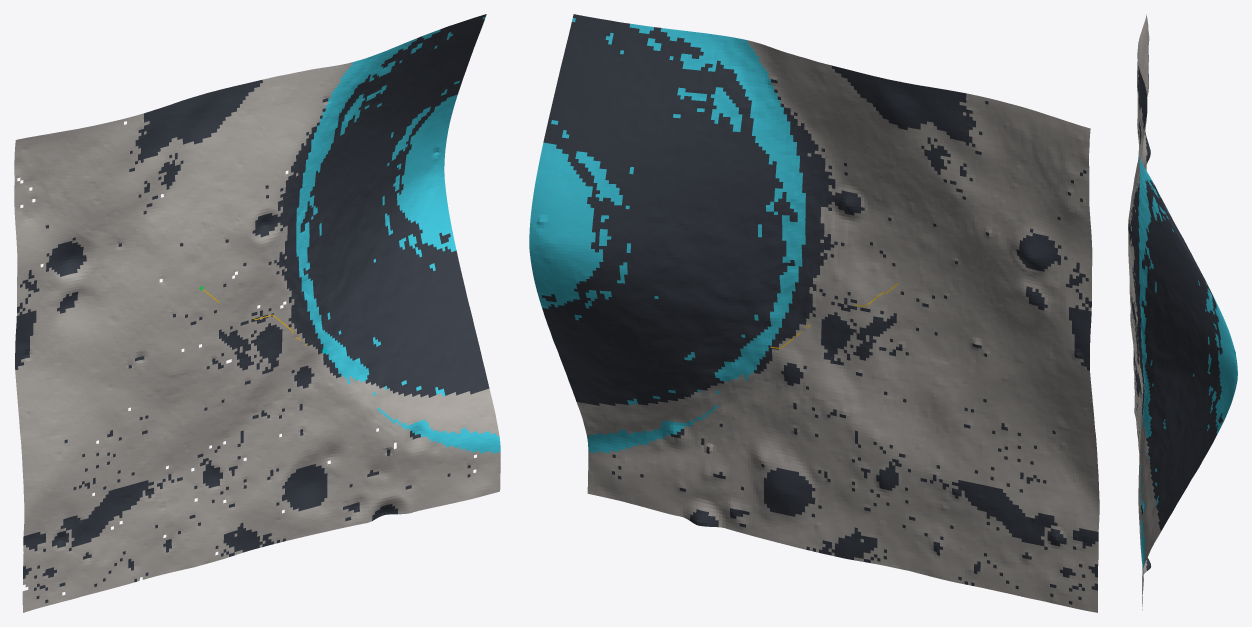
File: cabeus_b_terrain_and_traverse_3d_model.obj
3 views of the same model, side by side, from view 1: azimuth 30°, elevation 25°; view 2: azimuth 150°, elevation 25°; view 3: azimuth 270°, elevation 25° (orthographic). The views are drawn at different scales.
Visible parts, largest first — view 1: terrain_group_mat_sunlit_plateau, terrain_group_mat_psr_cold_trap, terrain_group_mat_ice_core; view 2: terrain_group_mat_sunlit_plateau, terrain_group_mat_psr_cold_trap, terrain_group_mat_ice_core; view 3: terrain_group_mat_psr_cold_trap, terrain_group_mat_ice_core, terrain_group_mat_sunlit_plateau.
Boxes of the visible parts, x1=… form: terrain_group_mat_sunlit_plateau: x1=14, y1=62, x2=500, y2=612; terrain_group_mat_psr_cold_trap: x1=15, y1=14, x2=489, y2=603; terrain_group_mat_ice_core: x1=296, y1=16, x2=500, y2=453; terrain_group_mat_sunlit_plateau: x1=576, y1=40, x2=1099, y2=612; terrain_group_mat_psr_cold_trap: x1=541, y1=14, x2=1098, y2=604; terrain_group_mat_ice_core: x1=529, y1=18, x2=805, y2=453; terrain_group_mat_psr_cold_trap: x1=1128, y1=55, x2=1222, y2=572; terrain_group_mat_ice_core: x1=1138, y1=154, x2=1237, y2=577; terrain_group_mat_sunlit_plateau: x1=1128, y1=14, x2=1160, y2=610.
Size of the model in its own units: 13120 by 12160 by 3037.
